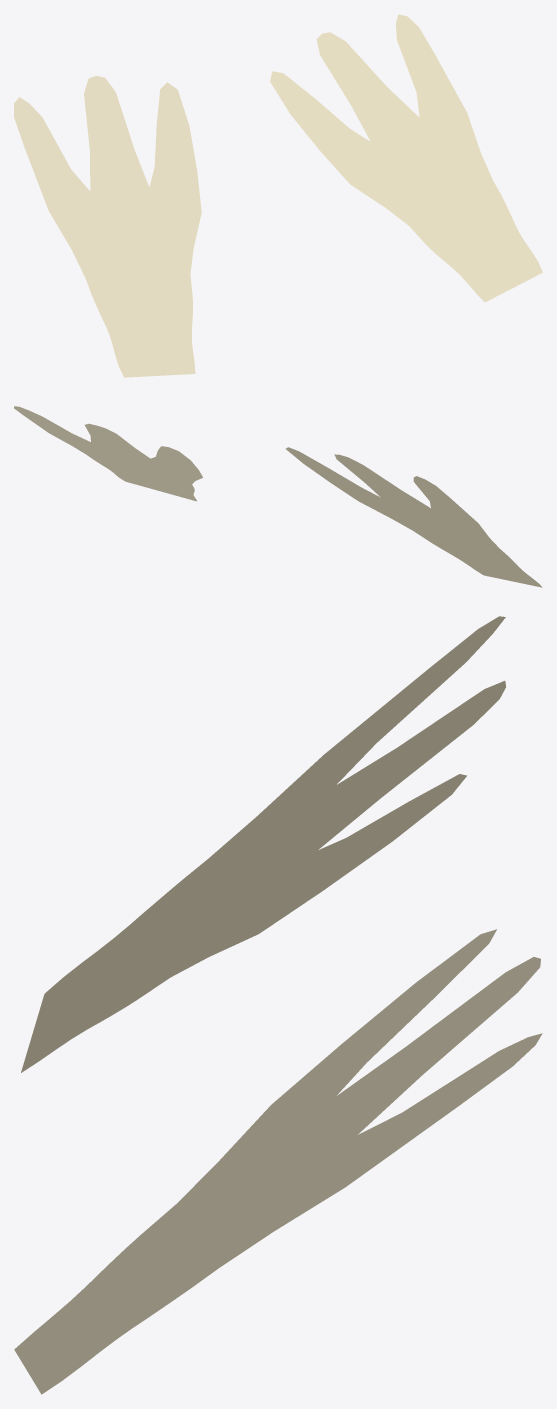
File: handstest.fbx
The picture shows the model from 3 angles, top to bottom: view 1: azimuth 30°, elevation 25°; view 2: azimuth 150°, elevation 25°; view 3: azimuth 270°, elevation 25°; orthographic projection. The views are drawn at different scales.
Visible parts, largest first — view 1: pPlane2, pPlane3; view 2: pPlane2, pPlane3; view 3: pPlane3, pPlane2.
Boxes of the visible parts, x1=… form: pPlane2: x1=14, y1=76, x2=201, y2=377; pPlane3: x1=270, y1=14, x2=542, y2=302; pPlane2: x1=286, y1=447, x2=542, y2=587; pPlane3: x1=14, y1=406, x2=202, y2=501; pPlane3: x1=14, y1=929, x2=542, y2=1394; pPlane2: x1=21, y1=616, x2=505, y2=1072.
Bounding box in the file's own units: 10.2 × 4.69 × 5.5.
